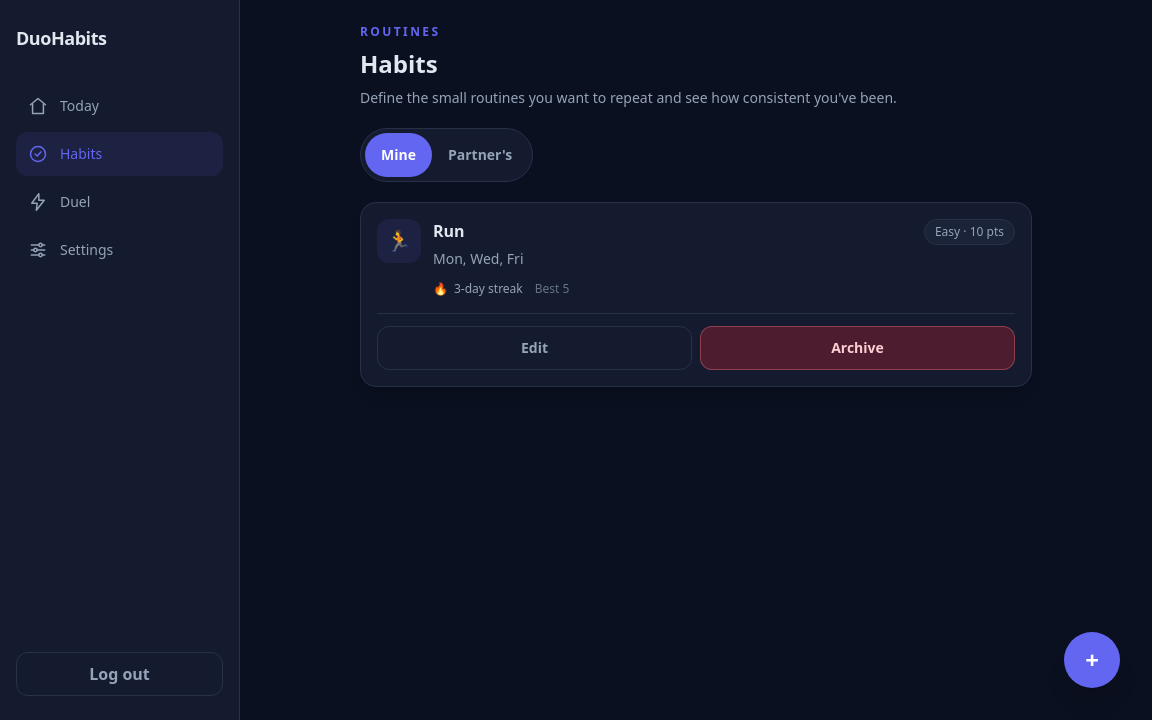
Test case: HabitsPage › opens the new habit form from the floating add button
Check: the heading "Habits" is shown, box [360,47,438,80]
Check: the heading "Run" is shown, box [433,219,465,243]
Click the link named "New habit" at x=1092, y=660, box [1064,632,1120,688]
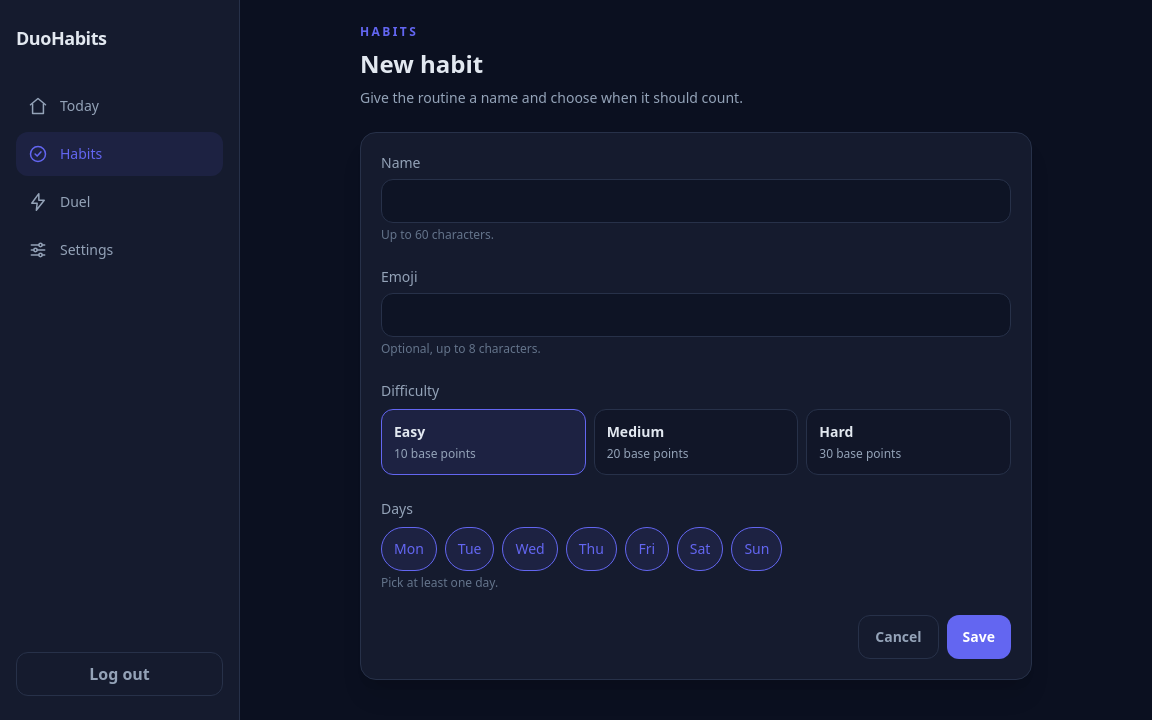
Check: the heading "New habit" is shown, box [360,47,483,80]
